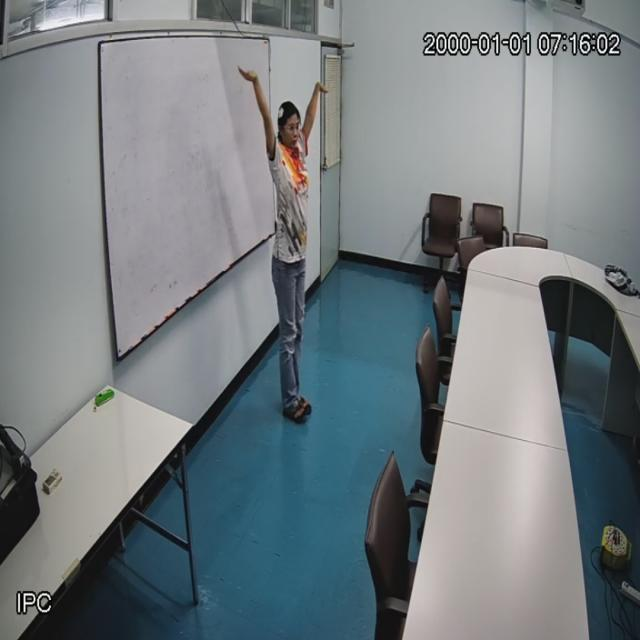normal: (268, 102, 322, 430)
